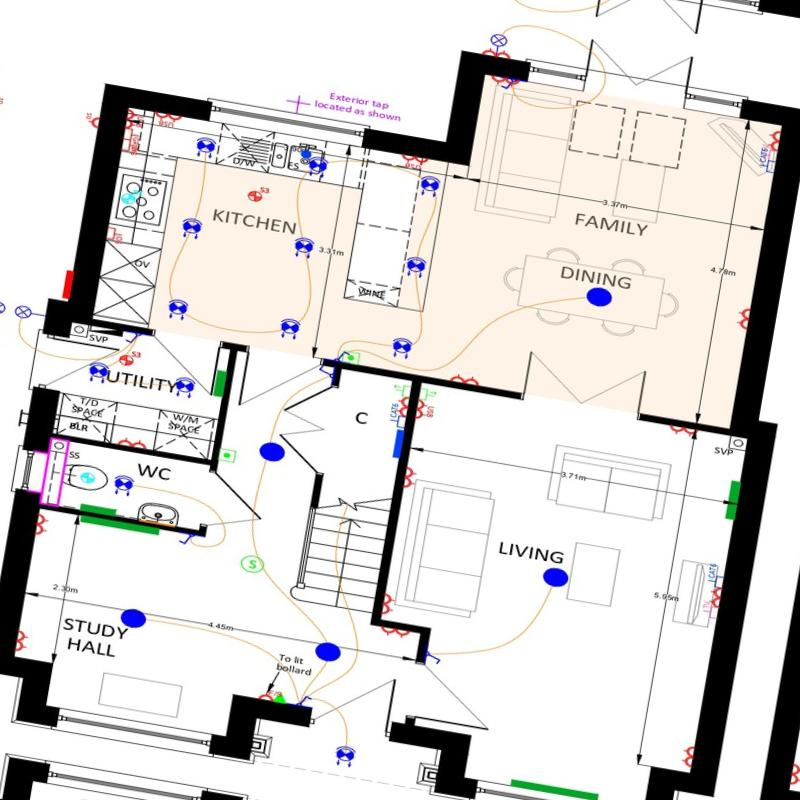BT Entry Point: (273, 693, 287, 705)
Cat 6 Data Socket: (707, 561, 724, 588), (389, 403, 407, 428), (759, 148, 776, 173)
Ceiling Mounted Continuous Extract FanWith Boost Mode Activated By Light Switch: (81, 472, 95, 483)
Ceiling Mounted Continuous Extract FanWith Local Boost Switch: (248, 187, 270, 202), (119, 351, 141, 366)
Co-Ax TV Socket: (762, 145, 779, 161), (703, 600, 718, 617)
Consumer Unit: (90, 325, 123, 337)
Double Socket: (492, 74, 520, 88), (450, 373, 480, 385), (382, 625, 409, 638), (736, 309, 753, 329), (670, 425, 698, 437), (118, 437, 146, 449), (482, 48, 510, 59), (682, 746, 697, 766), (34, 514, 48, 535), (709, 588, 724, 607), (768, 131, 782, 151), (15, 631, 29, 651), (403, 467, 416, 488), (396, 397, 411, 415), (382, 595, 395, 614), (790, 763, 800, 785)
Electric Meter Box: (62, 270, 73, 298)
External Wall Light: (15, 305, 45, 321), (491, 34, 507, 52)
Fused spur: (260, 689, 281, 704), (84, 112, 100, 127)
Grid Switch: (122, 139, 139, 155)
Light Switch: (426, 652, 441, 664), (319, 366, 333, 378), (335, 351, 350, 362), (501, 79, 515, 90), (297, 696, 312, 706), (179, 535, 194, 544), (126, 334, 141, 343)
Low Energy Downlighter: (195, 136, 216, 159), (406, 256, 427, 278), (182, 217, 202, 240), (392, 337, 412, 360), (280, 318, 300, 341), (335, 746, 356, 767), (420, 175, 440, 197), (294, 237, 314, 259), (175, 377, 195, 399), (169, 298, 188, 321), (309, 157, 329, 178), (89, 362, 108, 384), (115, 475, 134, 497)
Low Energy Pendant Light: (586, 287, 613, 308), (259, 442, 285, 462), (315, 642, 341, 662), (121, 608, 146, 628), (543, 568, 568, 587)
Mains Wired Smoke Detector: (241, 556, 264, 573)
Outside Tap: (286, 95, 311, 114)
Oven Switch: (106, 227, 123, 244)
Programmable Room Thermostat: (342, 351, 360, 365), (218, 449, 236, 461)
Radiator: (509, 778, 601, 799), (80, 516, 159, 536), (725, 481, 740, 519), (80, 503, 117, 516), (212, 370, 226, 396)
Recirculating Extractor Fan: (121, 189, 141, 204)
Telephone Socket: (393, 383, 412, 396), (419, 388, 436, 400)
USB Double Socket: (156, 111, 181, 128), (403, 153, 428, 170), (415, 400, 434, 419), (125, 109, 143, 128)
Underfloor Heating Manifold: (392, 429, 404, 458)
Water Entry Position: (301, 150, 311, 158)
